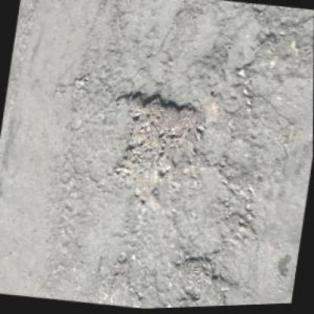Hueco: (102, 81, 210, 203), (173, 249, 234, 298)
